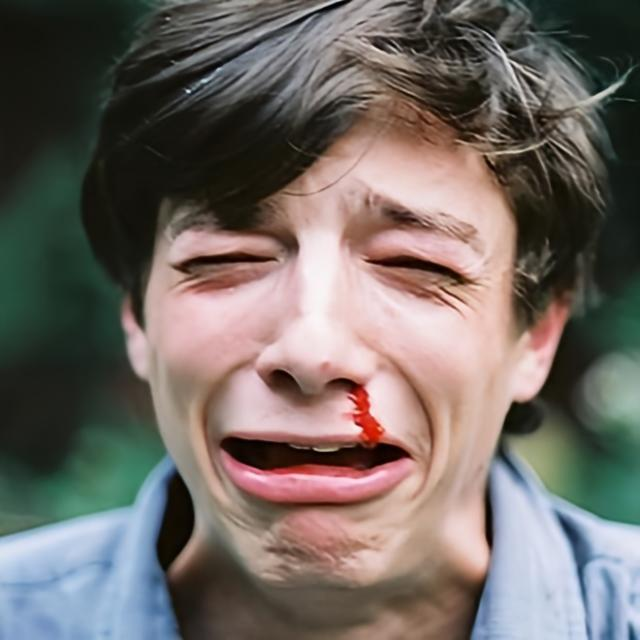sad: (146, 91, 514, 601)
